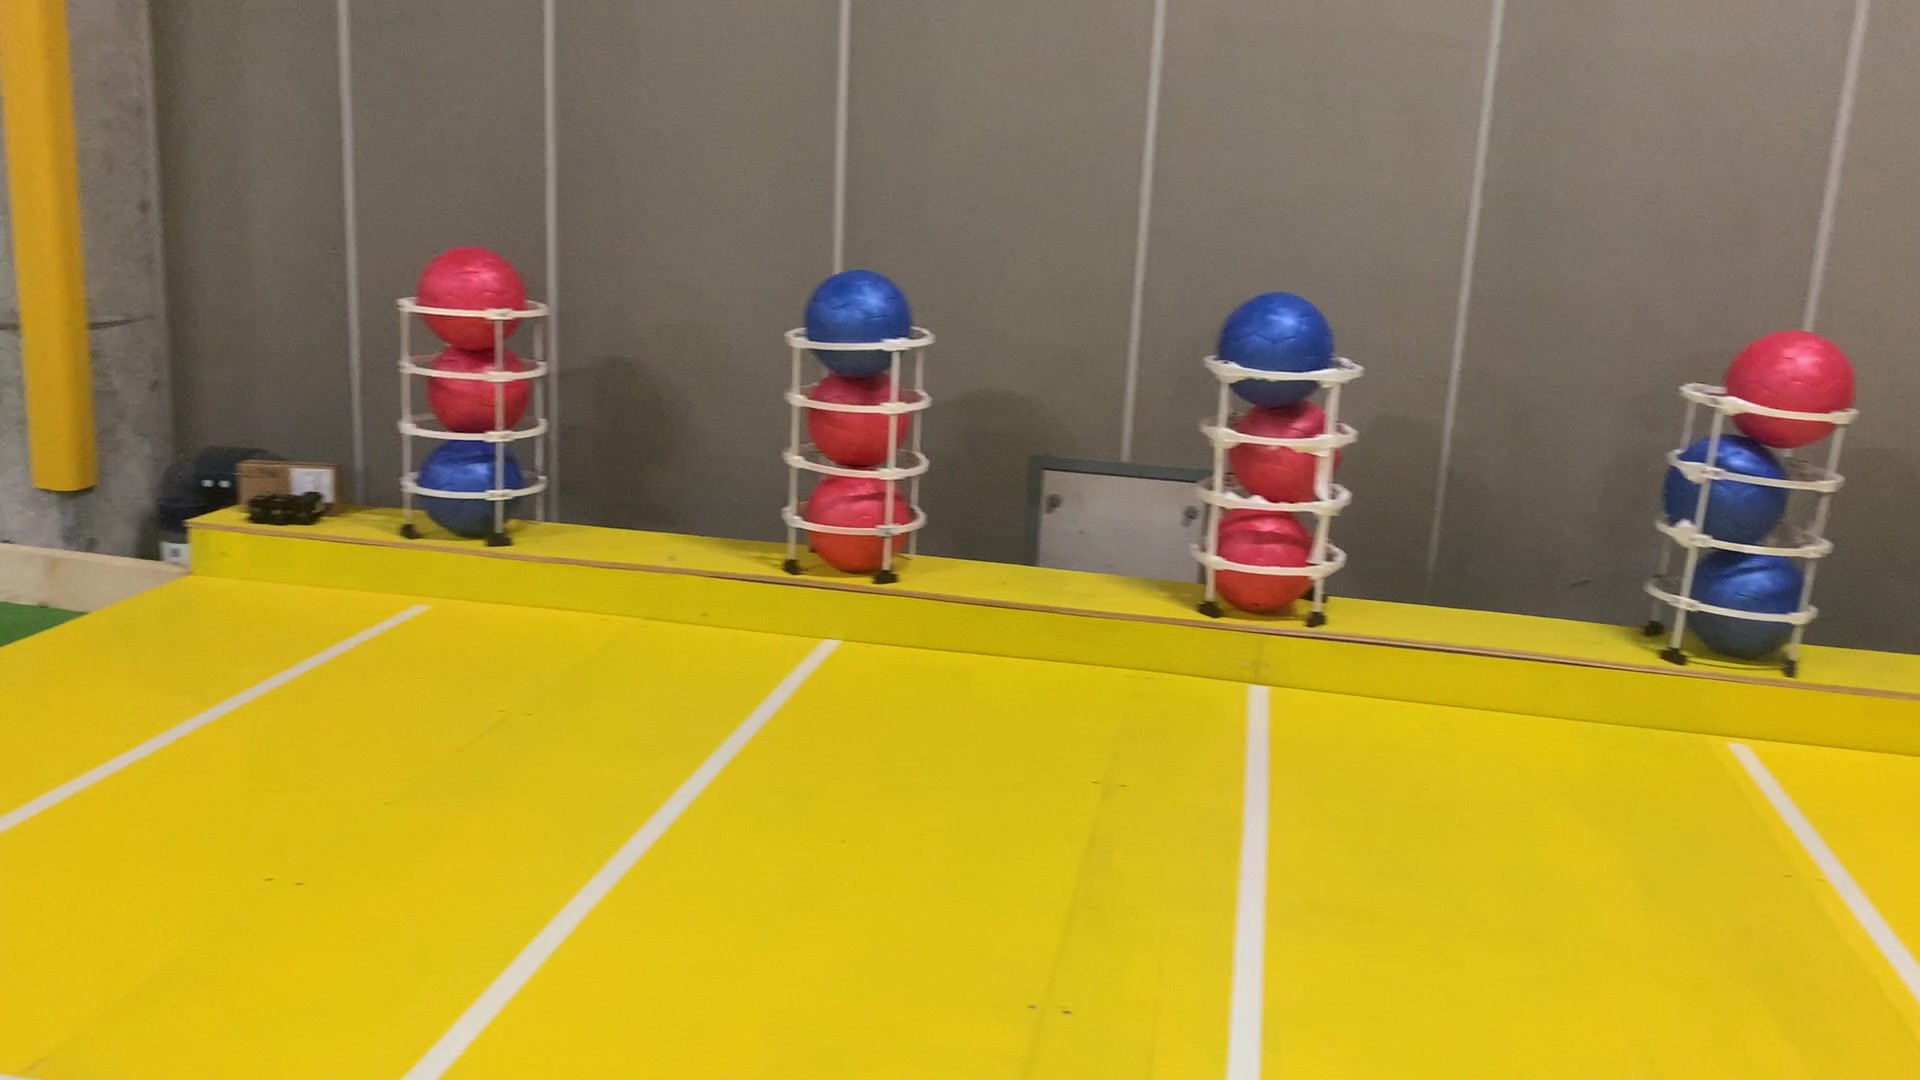blue: (1668, 426, 1791, 546), (1669, 542, 1807, 649), (1217, 282, 1331, 398), (418, 430, 527, 542), (807, 269, 916, 377)
red: (1720, 320, 1851, 443), (1224, 389, 1345, 508), (1195, 498, 1321, 609), (800, 468, 914, 578), (803, 364, 916, 468), (410, 241, 526, 343), (423, 335, 533, 434)
